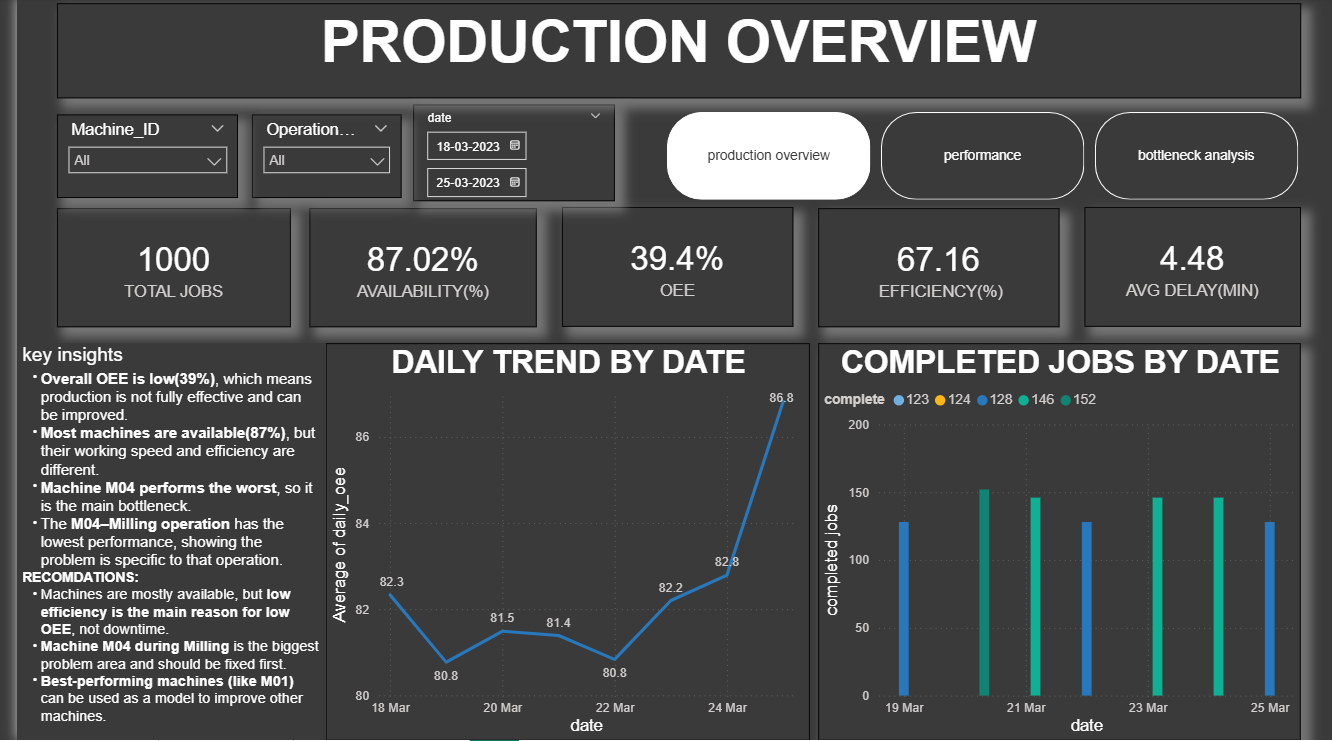

What the dashboard file says about the page in this screenshot:
{"tool":"powerbi","page":{"name":"production overview","canvas":[1280,720],"ordinal":0},"visuals":[{"type":"card","fields":{"Values":["mdb production_re.oee"]},"box":[527.8,203.4,223.9,116.2],"z":0},{"type":"card","fields":{"Values":["mdb production_re.availability"]},"box":[283.3,204.6,220.3,115],"z":1000},{"type":"card","fields":{"Values":["Avg(mdb production_efficiency.efficiency)"]},"box":[775.9,204.6,233.6,115],"z":2000},{"type":"card","title":"total jobs","fields":{"Values":["Count(mdb production_re.Job_ID)"]},"box":[38.7,204.6,226.4,115],"z":3000},{"type":"card","fields":{"Values":["Avg(mdb downtime_by_machine.avg_delay_min)"]},"box":[1033.8,203.4,209.4,116.2],"z":4000},{"type":"lineChart","title":"DAILY TREND BY DATE","fields":{"Category":["mdb daily_trend.date"],"Y":["Avg(mdb daily_trend.daily_oee)"]},"box":[299,335.3,468.5,384.9],"z":5000},{"type":"clusteredColumnChart","title":" COMPLETED JOBS BY DATE","fields":{"Category":["mdb daily_trend.date"],"Y":["Avg(mdb production_efficiency.complete)"],"Series":["mdb production_efficiency.complete"]},"box":[775.9,335.3,467.3,384.9],"z":6000},{"type":"slicer","fields":{"Values":["mdb daily_trend.date"]},"box":[383.7,104.1,194.9,93.2],"z":7000},{"type":"slicer","fields":{"Values":["mdb production_re.OperationType"]},"box":[227,114.1,144.8,81],"z":8000},{"type":"textbox","box":[38.7,6.1,1204.4,92],"z":9000},{"type":"pageNavigator","box":[629.5,111.4,613.7,85.9],"z":10000},{"type":"textbox","title":"key insights","box":[0,335.3,299,384.9],"z":11000},{"type":"slicer","fields":{"Values":["mdb production_re.Machine_ID"]},"box":[38.7,113.8,175.5,81.1],"z":12000}]}

Visuals, with their boxes in screenshot pixels (x1, y1, x2, y2), scaled from the page's 1280x720 canvas onto the 1332x741 screenshot:
card - mdb production_re.oee: 549 209 782 329
card - mdb production_re.availability: 295 211 524 329
card - Avg(mdb production_efficiency.efficiency): 807 211 1051 329
"total jobs" card: 40 211 276 329
card - Avg(mdb downtime_by_machine.avg_delay_min): 1076 209 1294 329
"DAILY TREND BY DATE" lineChart: 311 345 799 740
" COMPLETED JOBS BY DATE" clusteredColumnChart: 807 345 1294 740
slicer - mdb daily_trend.date: 399 107 602 203
slicer - mdb production_re.OperationType: 236 117 387 201
textbox: 40 6 1294 101
pageNavigator: 655 115 1294 203
"key insights" textbox: 0 345 311 740
slicer - mdb production_re.Machine_ID: 40 117 223 201
